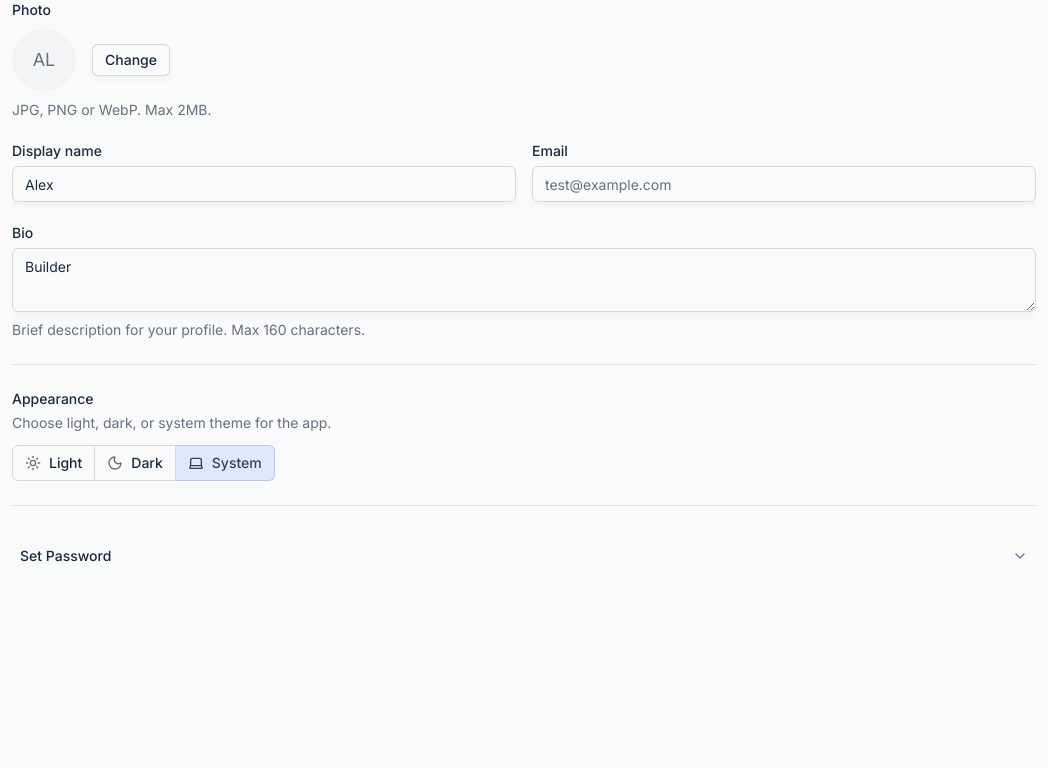
ProfileModalContent › should show Set Password and no current field when hasPassword is false
Click the button "Set Password" at coordinates (66, 556), box [12,530,1036,582]
(page scrolled)
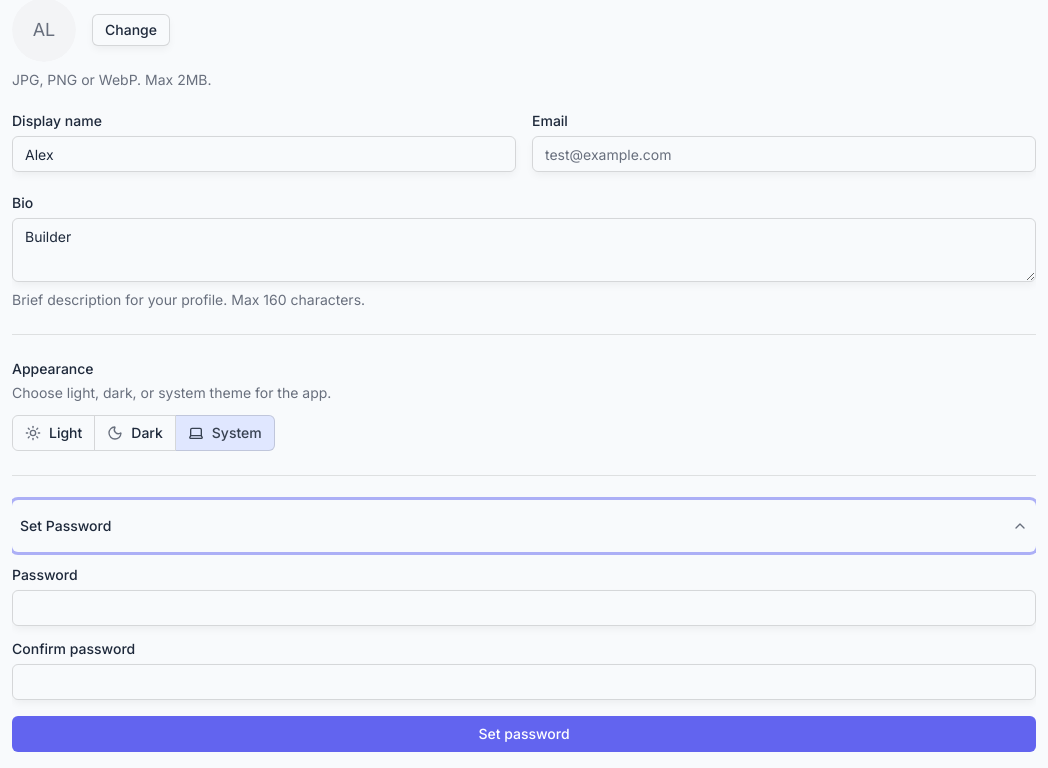
Check: the password field labelled "Password" is shown, box [12,590,1036,626]
